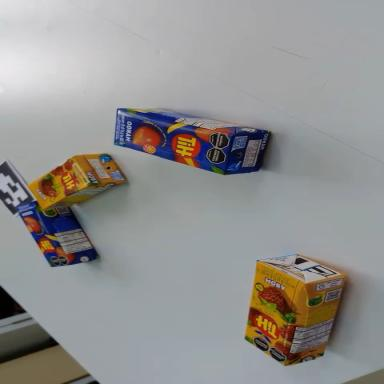HIT-MANGO: (109, 100, 271, 182), (14, 184, 101, 282)
HIT-MORA: (231, 243, 349, 375), (26, 140, 127, 220)
cara_F: (109, 110, 233, 174), (236, 261, 307, 366), (15, 198, 72, 275), (26, 154, 94, 210)
